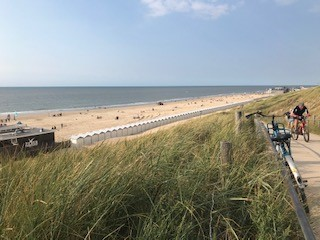pad: (252, 116, 320, 200)
